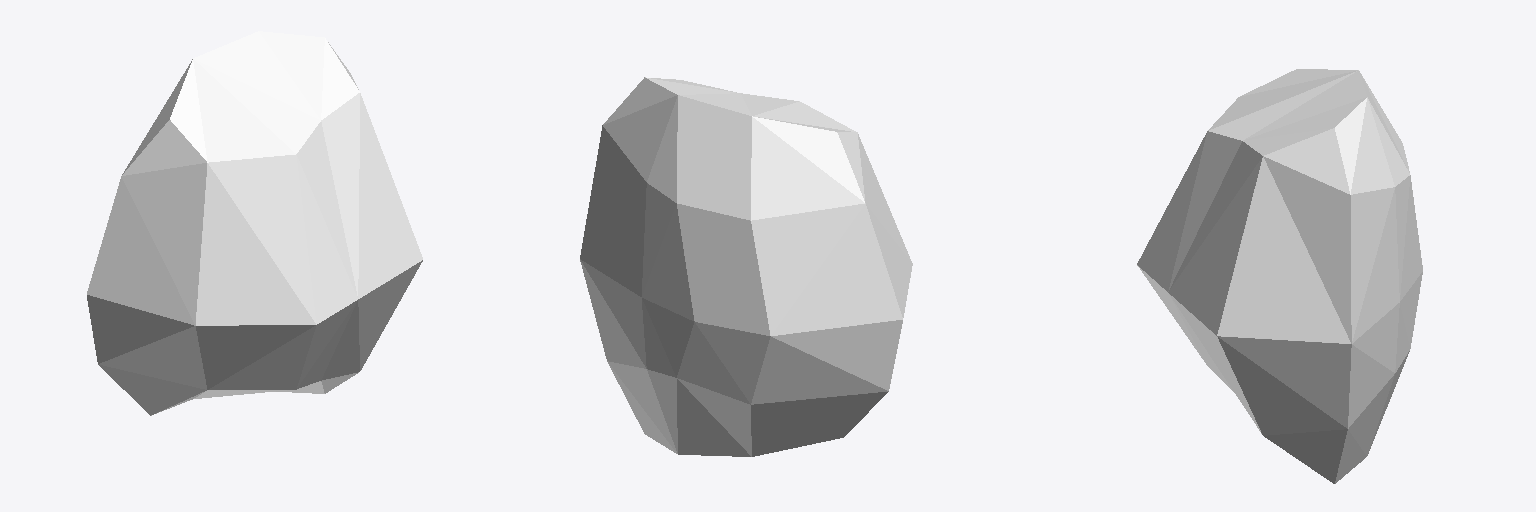
The model's file is Rock_04.obj.
3 views of the same model, side by side, from view 1: azimuth 30°, elevation 25°; view 2: azimuth 150°, elevation 25°; view 3: azimuth 270°, elevation 25° (orthographic).
Parts seen in each view (by area): view 1: world_expansion06_doodads_suramar_7sr_cragrock_a04.m2_Geoset_000; view 2: world_expansion06_doodads_suramar_7sr_cragrock_a04.m2_Geoset_000; view 3: world_expansion06_doodads_suramar_7sr_cragrock_a04.m2_Geoset_000.
Part boxes in pixels (x1,y1,x2,y2): world_expansion06_doodads_suramar_7sr_cragrock_a04.m2_Geoset_000: (87,31,422,415); world_expansion06_doodads_suramar_7sr_cragrock_a04.m2_Geoset_000: (580,77,912,456); world_expansion06_doodads_suramar_7sr_cragrock_a04.m2_Geoset_000: (1137,69,1422,483).
Size of the model in its own units: 5.56 by 6.33 by 4.52.